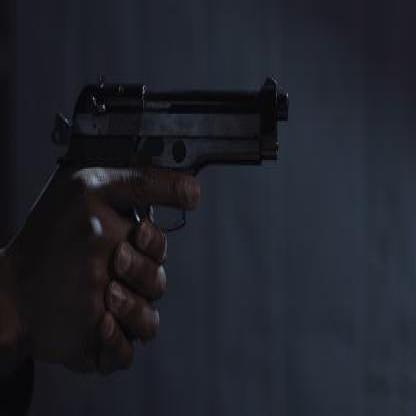pistol: (46, 65, 288, 323)
